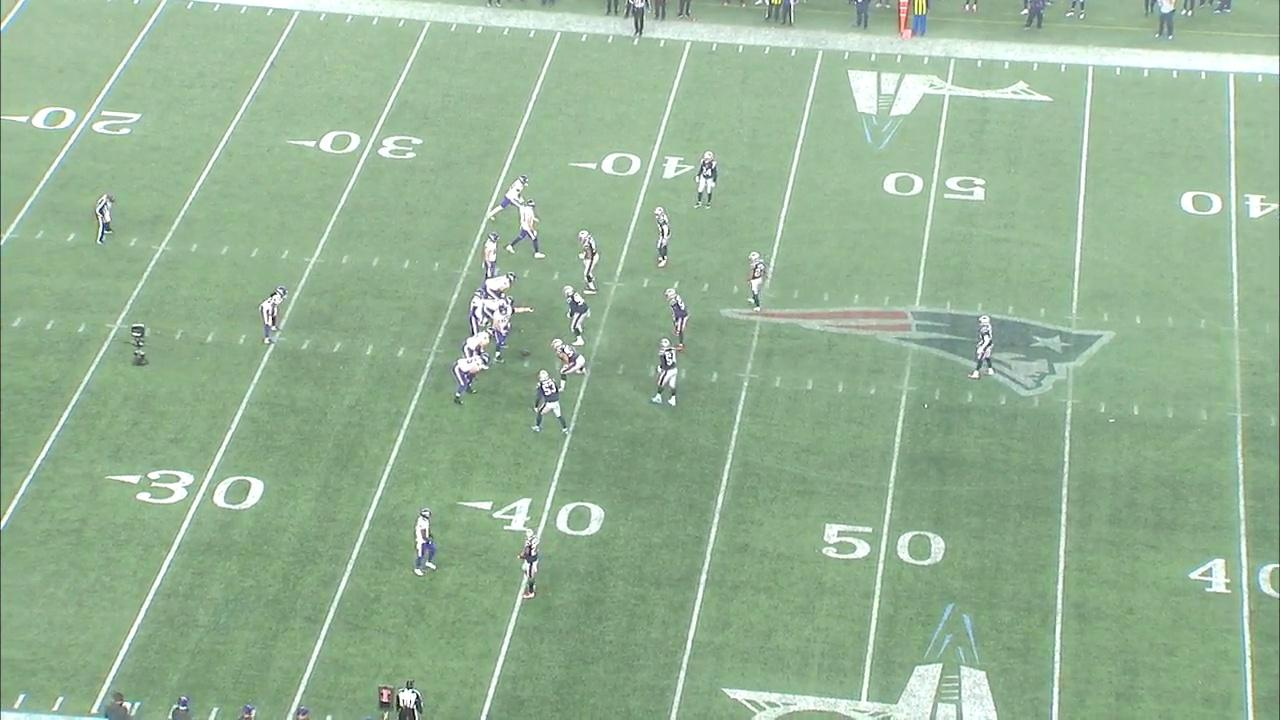player: (529, 369, 574, 438), (502, 198, 548, 260), (492, 303, 537, 364), (449, 351, 492, 407), (967, 309, 999, 383), (485, 173, 531, 224), (548, 336, 588, 394), (649, 339, 681, 407), (560, 283, 592, 347), (257, 285, 290, 347), (412, 503, 439, 577), (516, 525, 542, 601), (690, 149, 720, 212), (663, 285, 691, 351), (575, 227, 601, 296), (480, 295, 517, 333), (461, 325, 497, 360), (747, 250, 767, 313), (653, 205, 672, 269), (481, 270, 519, 300), (482, 229, 503, 279), (466, 287, 487, 336)
ref: (391, 676, 430, 720), (94, 190, 119, 246), (625, 0, 653, 41)
